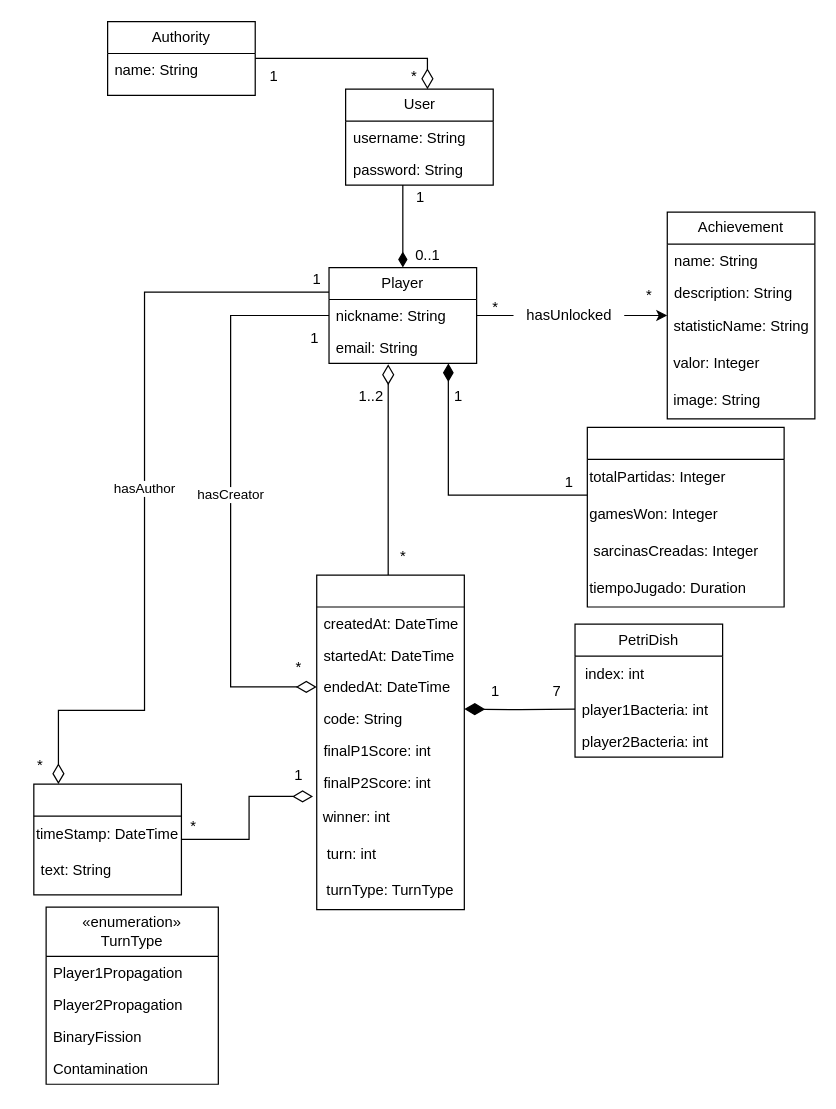
The diagram is 836 pixels wide and 1109 high, and some of its shapes have lost their labels. The box of each missing label's shape, as (x1, y1, x2, y2) in pixels:
ChatMessage: (33, 783, 181, 895)
Game: (315, 574, 464, 910)
Statistics: (586, 426, 784, 607)
